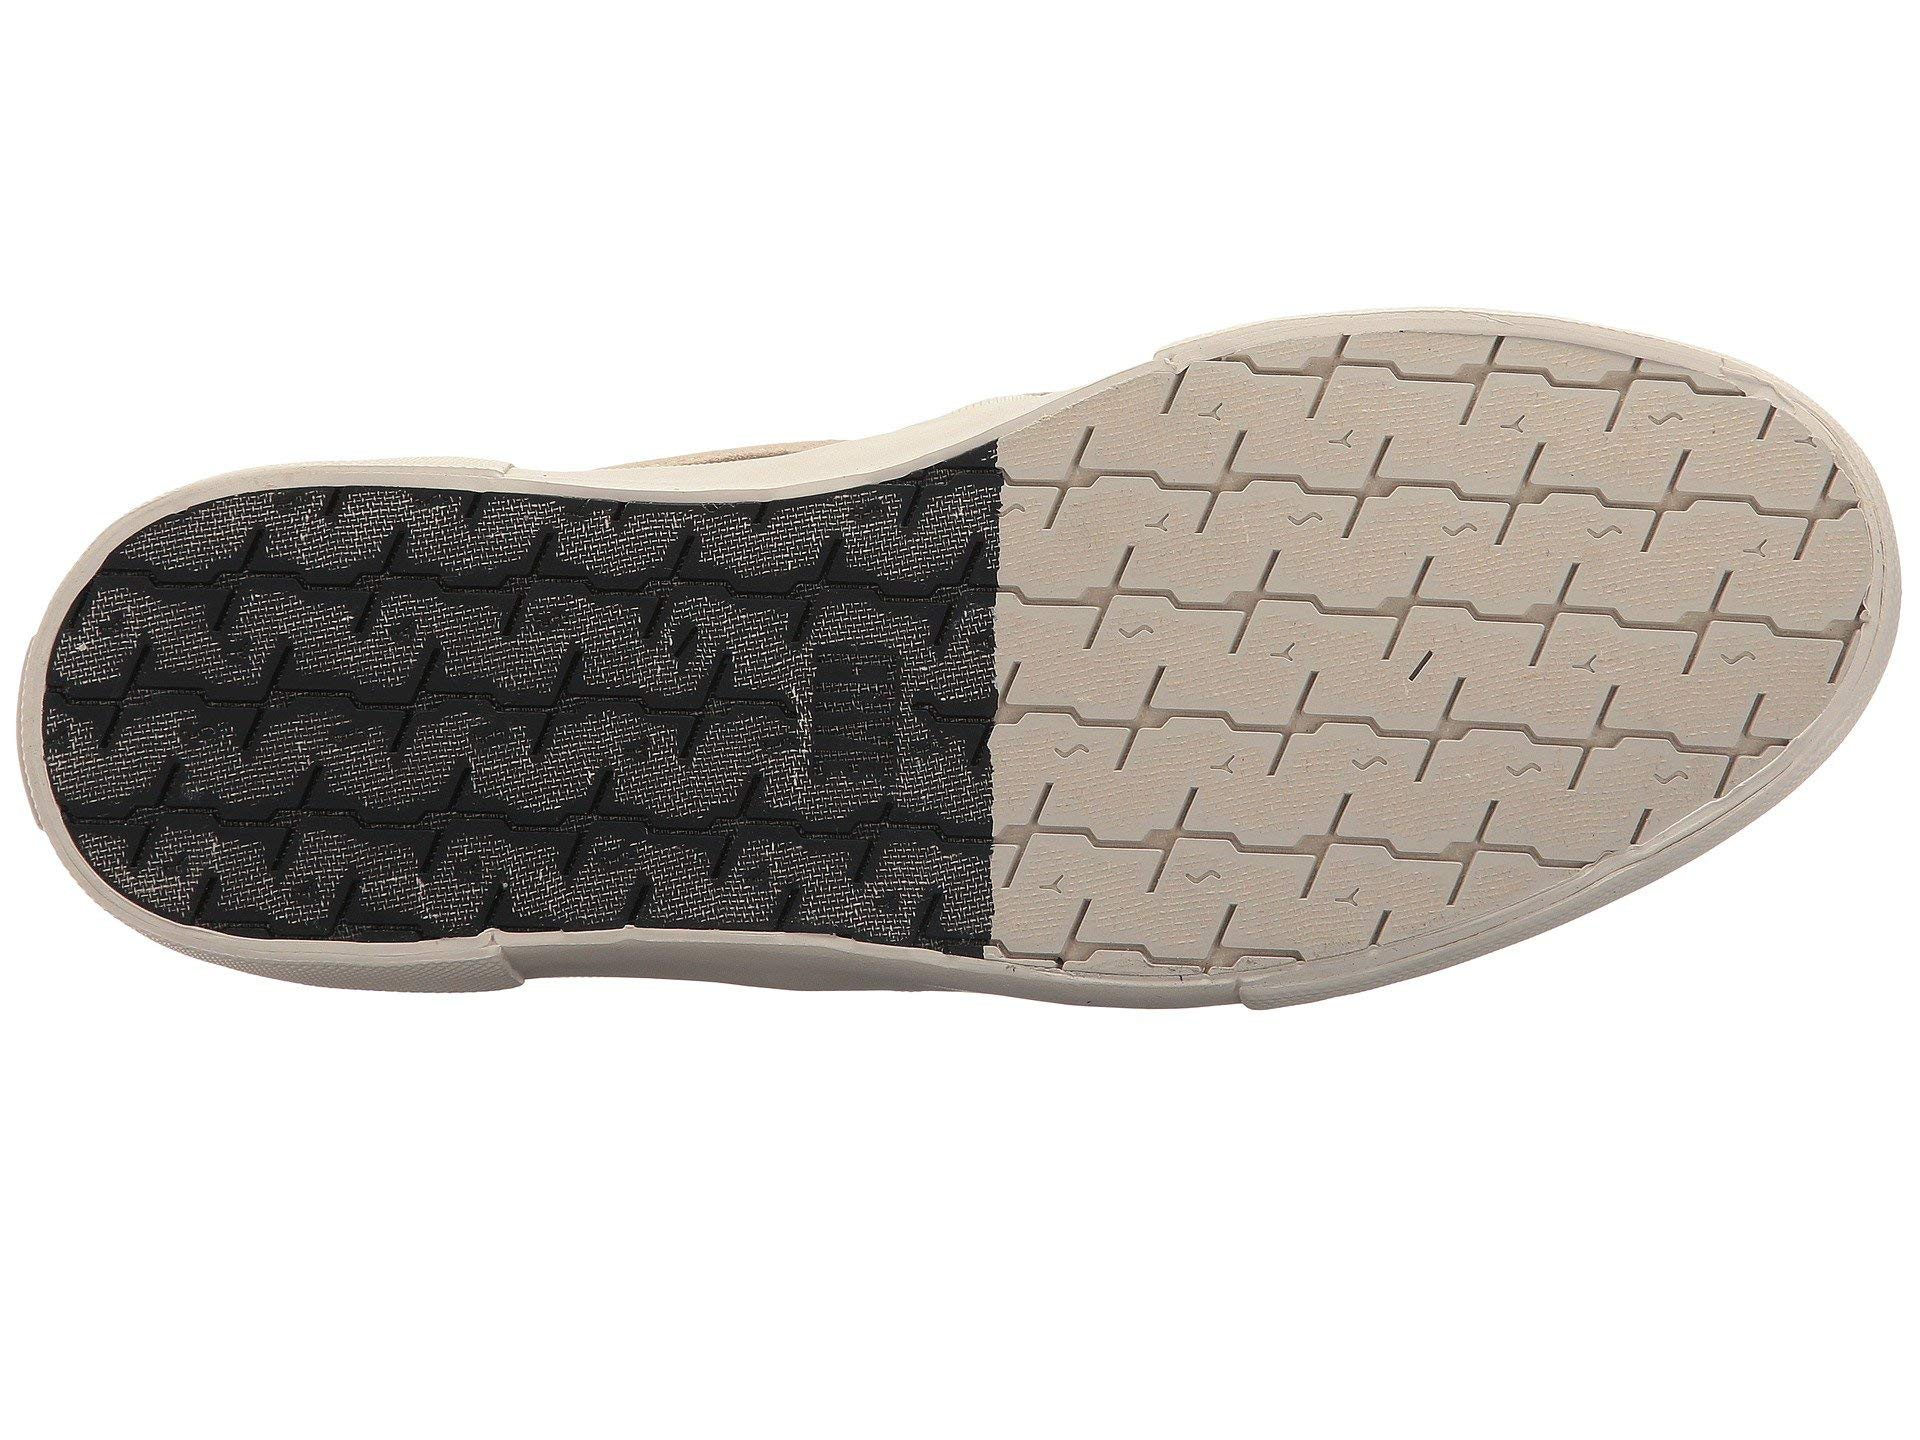line: (1137, 455, 1524, 908)
text: (766, 610, 924, 799)
